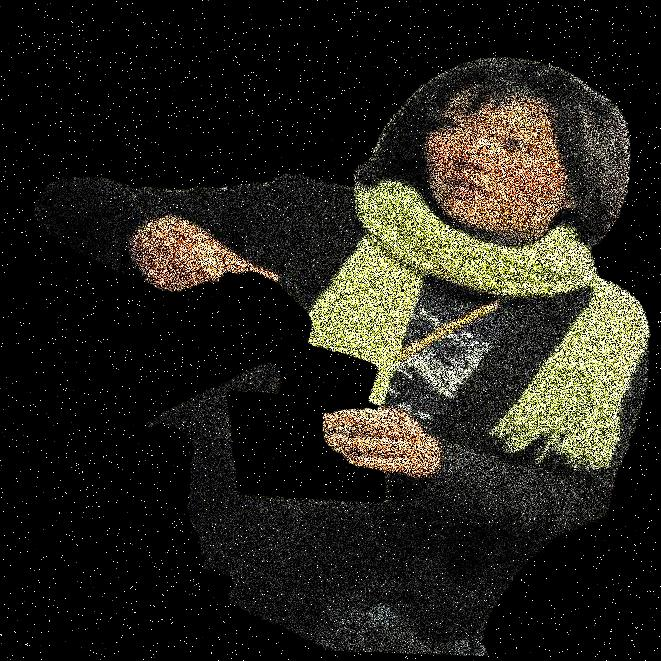Pessoa: (324, 0, 605, 660)
